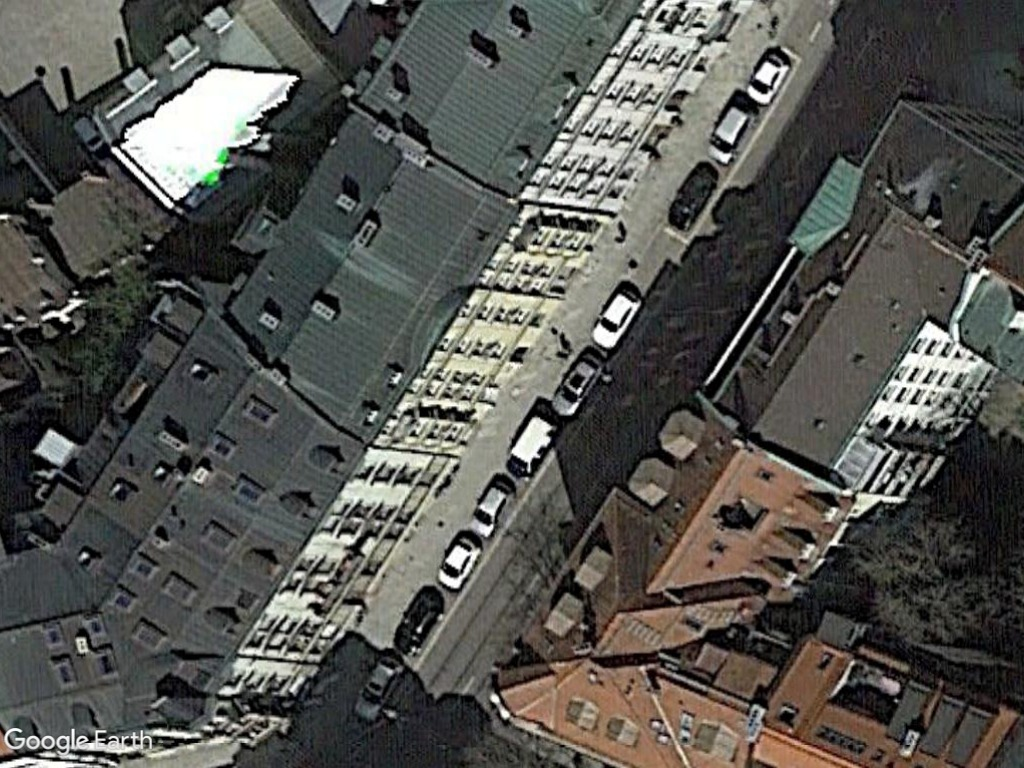car: (544, 350, 610, 421), (350, 652, 410, 726), (462, 473, 518, 541), (430, 530, 486, 598), (704, 98, 758, 168), (591, 287, 648, 353), (744, 46, 796, 110)
